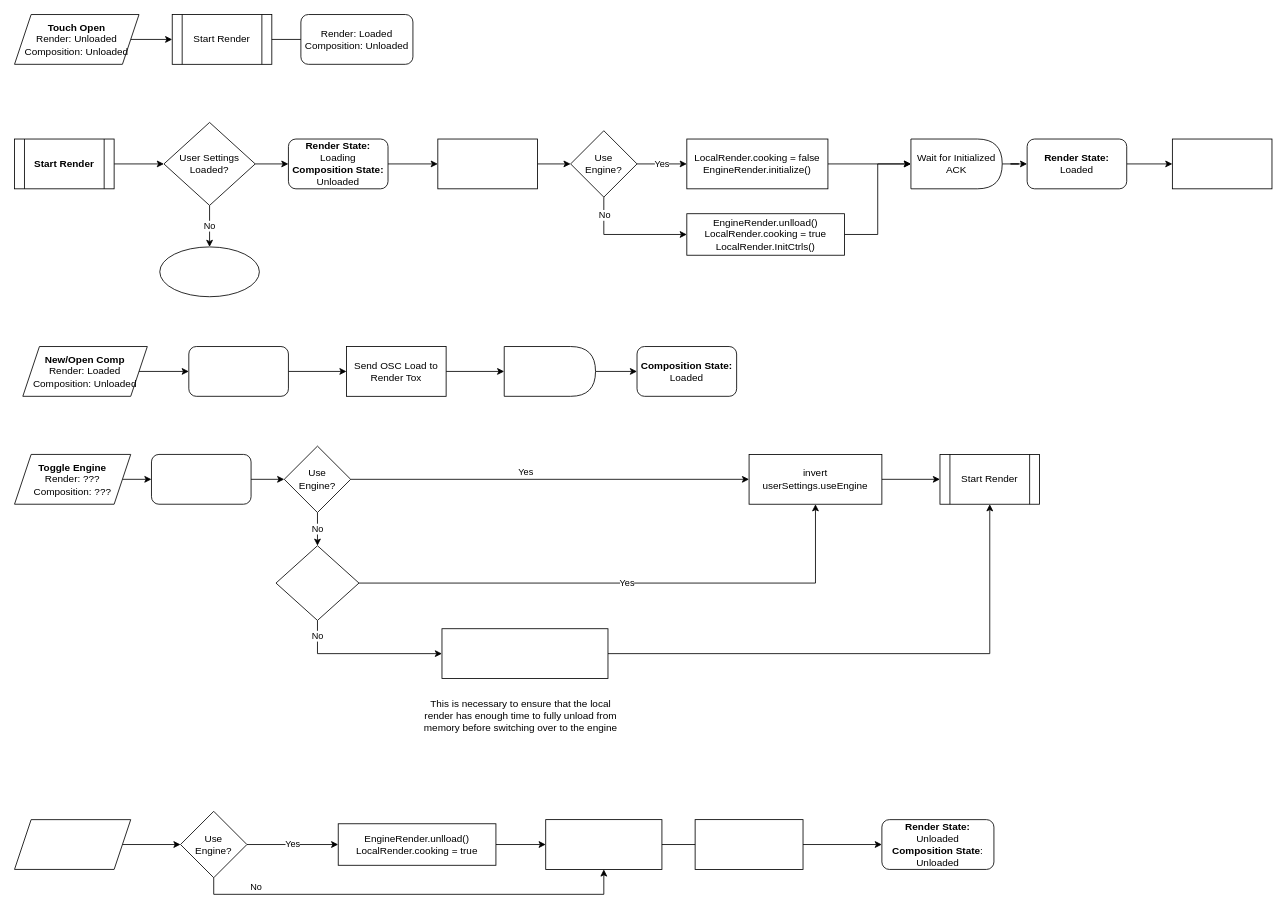
The diagram is 1287 pixels wide and 915 high, and some of its shapes have lost their labels. The shapes that lost their labels are listed below. From the top down, each one's centre as x and y in pixels, then its label:
At (487,163): "Bind OSC Controls".
At (1222,163): "Invoke OnRenderLoaded callbacks if present".
At (209,271): "Error If we hit this, we need to handle race".
At (238,371): "Composition State: Loading".
At (549,371): "Wait for Load ACK".
At (201,479): "Render State: Loading".
At (317,582): "Composition Unloaded".
At (524,653): "set OnRenderLoaded callback to: StartRender(useEngine=True)".
At (72,844): "Before Save Render: ??? Composition: ???".
At (603,844): "LocalRender.InitCtrls()".
At (748,844): "UnBind OSC Controls".
